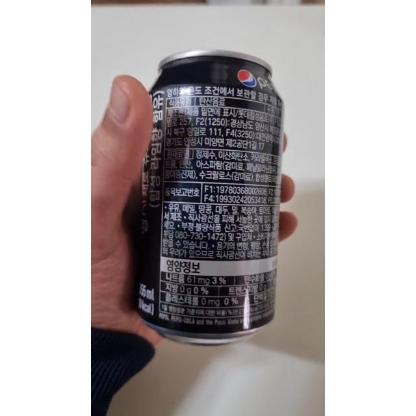Can: (132, 47, 284, 344)
